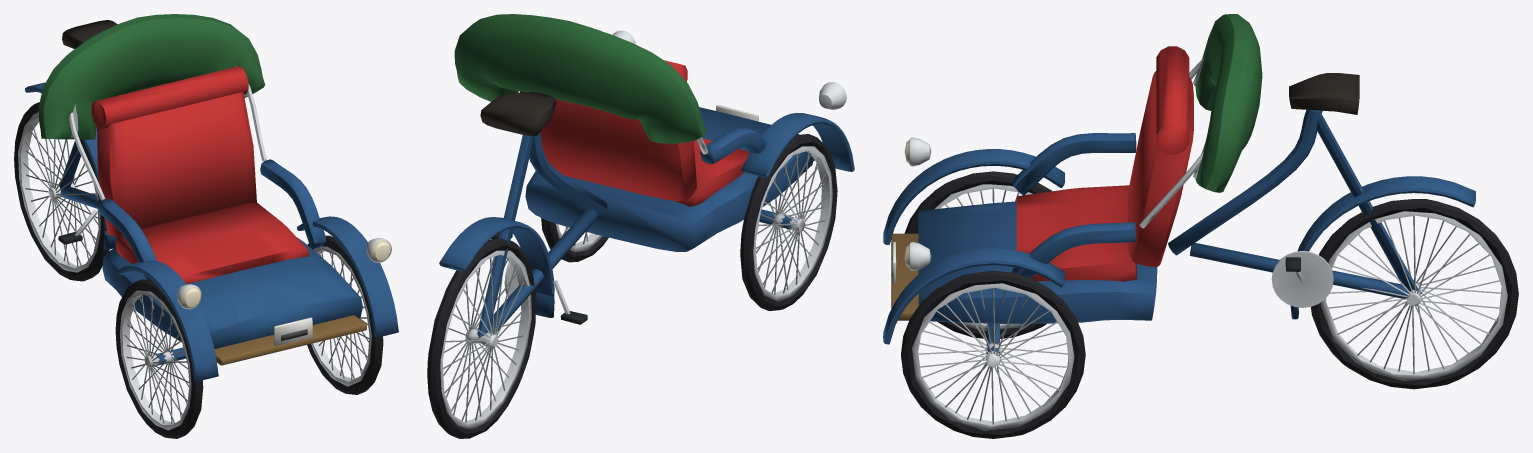
Rendered from veh-xichlo.glb.
3 views of the same model, side by side, from view 1: azimuth 30°, elevation 25°; view 2: azimuth 150°, elevation 25°; view 3: azimuth 270°, elevation 25° (orthographic). The views are drawn at different scales.
Parts seen in each view (by area): view 1: body, wheel0, wheel2, wheel1; view 2: body, wheel2, wheel0, wheel1; view 3: body, wheel2, wheel1, wheel0.
Part boxes in pixels (x1,y1,x2,y2): body: (25, 14, 398, 381); wheel0: (115, 279, 203, 438); wheel2: (14, 102, 109, 281); wheel1: (307, 235, 383, 394); body: (439, 14, 854, 338); wheel2: (427, 238, 536, 438); wheel0: (740, 134, 837, 311); wheel1: (541, 218, 608, 262); body: (883, 14, 1475, 355); wheel2: (1311, 199, 1518, 389); wheel1: (901, 270, 1085, 438); wheel0: (904, 171, 1051, 338).
Bounding box in the file's own units: 0.9316 × 1.26 × 2.06.
